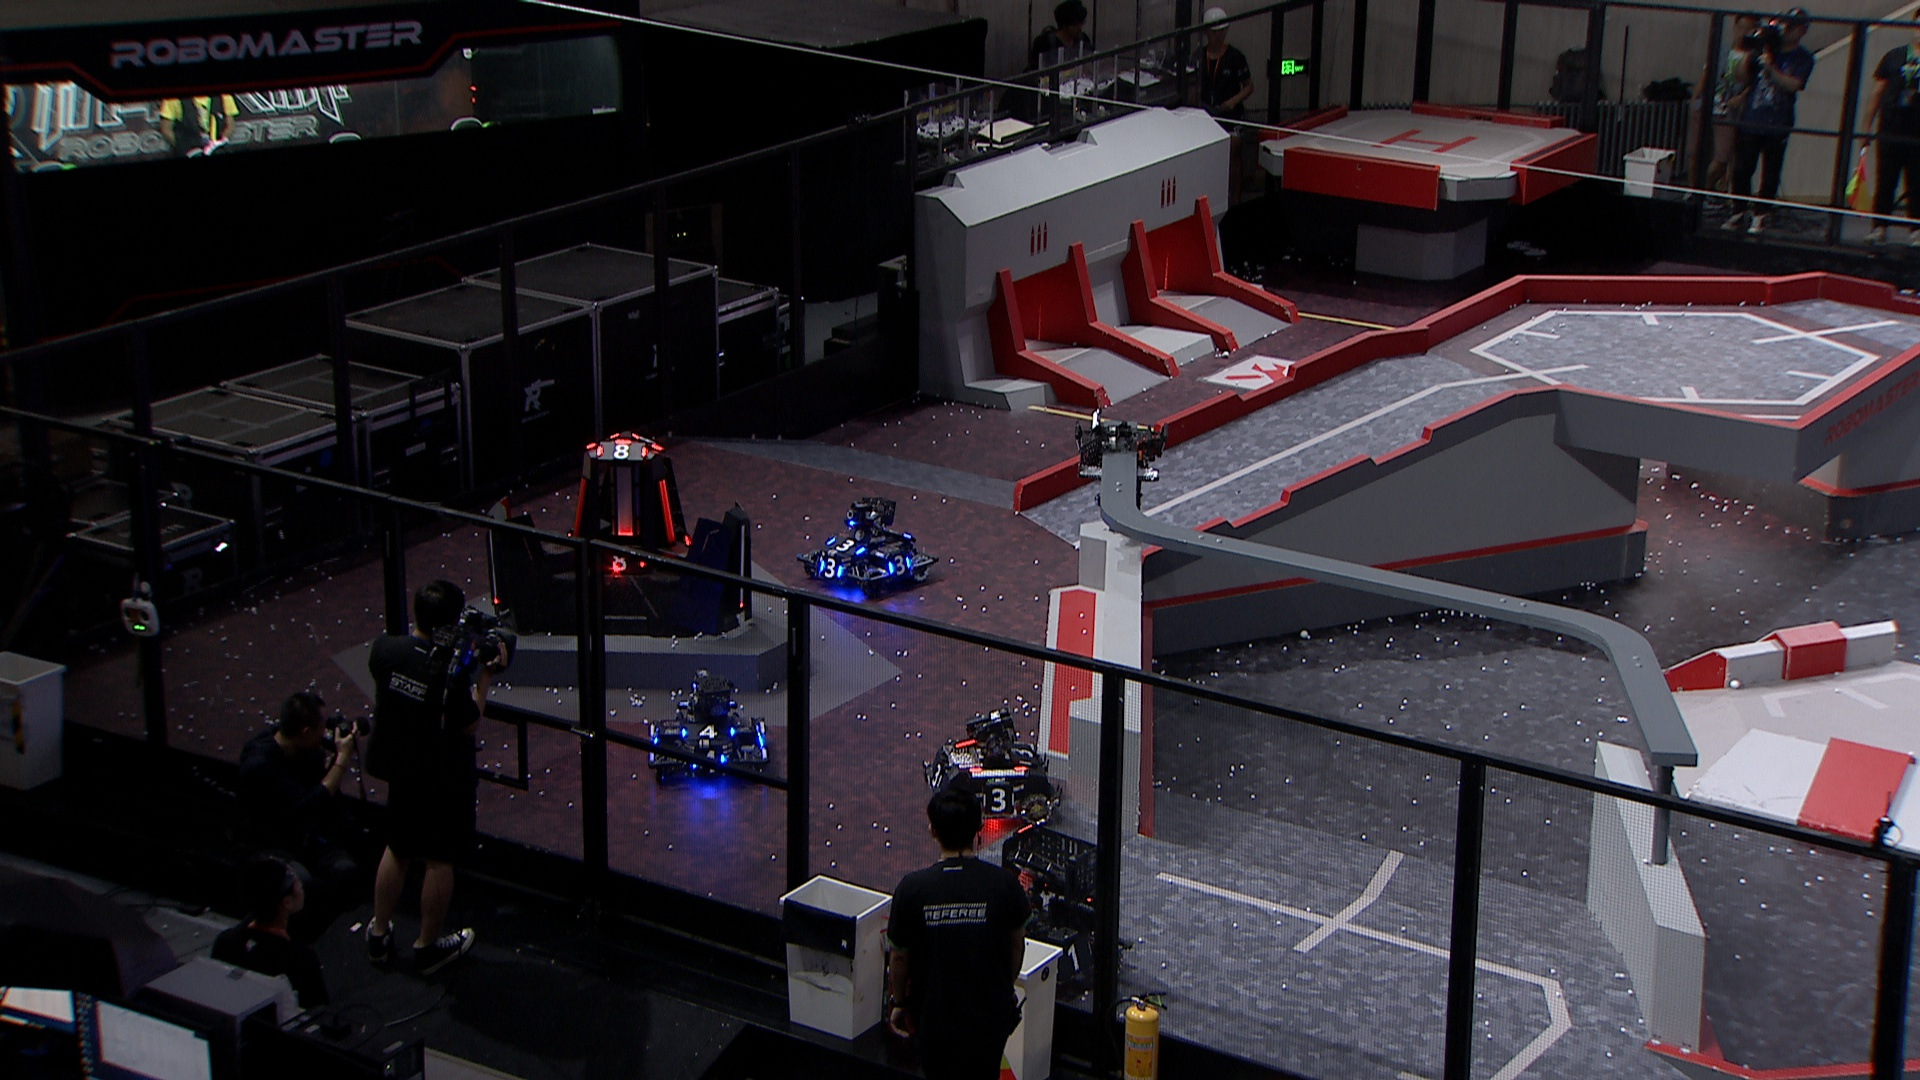armor: (655, 477, 679, 542), (1055, 943, 1096, 973), (680, 723, 733, 740), (596, 443, 645, 462), (597, 553, 642, 572), (572, 475, 585, 541), (981, 787, 1015, 812), (688, 750, 727, 769), (828, 534, 865, 553), (1011, 740, 1036, 766), (924, 757, 944, 787), (887, 553, 913, 574), (816, 559, 843, 579), (615, 524, 636, 535)
base: (479, 429, 752, 640)
car: (986, 828, 1130, 992), (915, 702, 1062, 837), (642, 669, 770, 782), (798, 496, 940, 597)
watcher: (1068, 407, 1167, 534)
